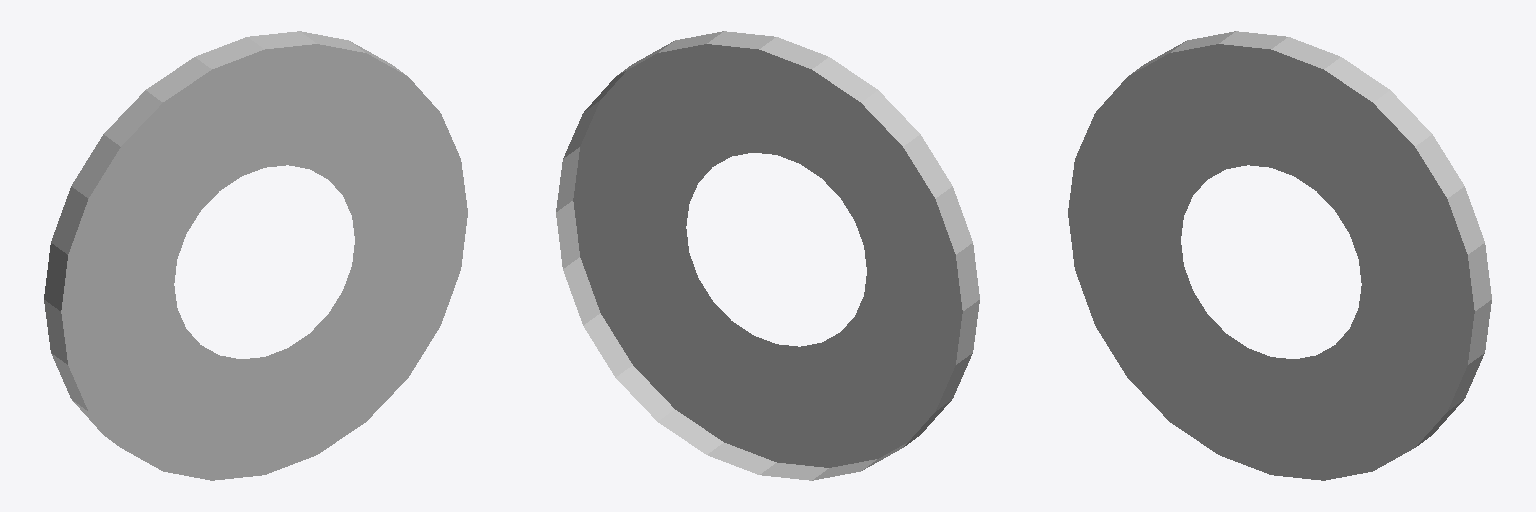
File: original-48.obj
The picture shows the model from 3 angles: view 1: azimuth 30°, elevation 25°; view 2: azimuth 150°, elevation 25°; view 3: azimuth 330°, elevation 25°; orthographic projection.
Visible parts, largest first — view 1: #ID353; view 2: #ID353; view 3: #ID353.
Part boxes in pixels (x1,y1,x2,y2): #ID353: (44, 31, 467, 480); #ID353: (556, 31, 979, 480); #ID353: (1068, 31, 1491, 480).
Size of the model in its own units: 0.137 by 0.137 by 0.0101.